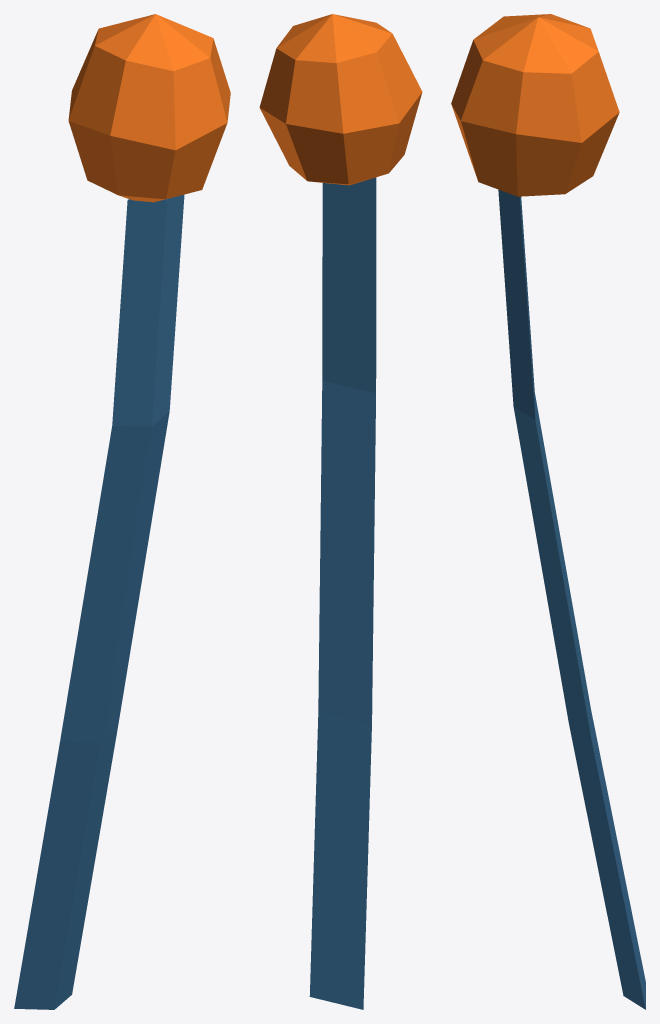
The model's file is scifi_scifi-plant-orb-small.fbx.
3 views of the same model, side by side, from view 1: azimuth 30°, elevation 25°; view 2: azimuth 150°, elevation 25°; view 3: azimuth 270°, elevation 25° (orthographic). The views are drawn at different scales.
Parts seen in each view (by area): view 1: scifi_scifi_plant_orb_small; view 2: scifi_scifi_plant_orb_small; view 3: scifi_scifi_plant_orb_small.
Boxes of the visible parts, x1,y1,x2,y2 form: scifi_scifi_plant_orb_small: [14, 14, 230, 1009]; scifi_scifi_plant_orb_small: [259, 14, 422, 1009]; scifi_scifi_plant_orb_small: [451, 14, 645, 1009].
Size of the model in its own units: 31.28 by 200 by 35.05.
